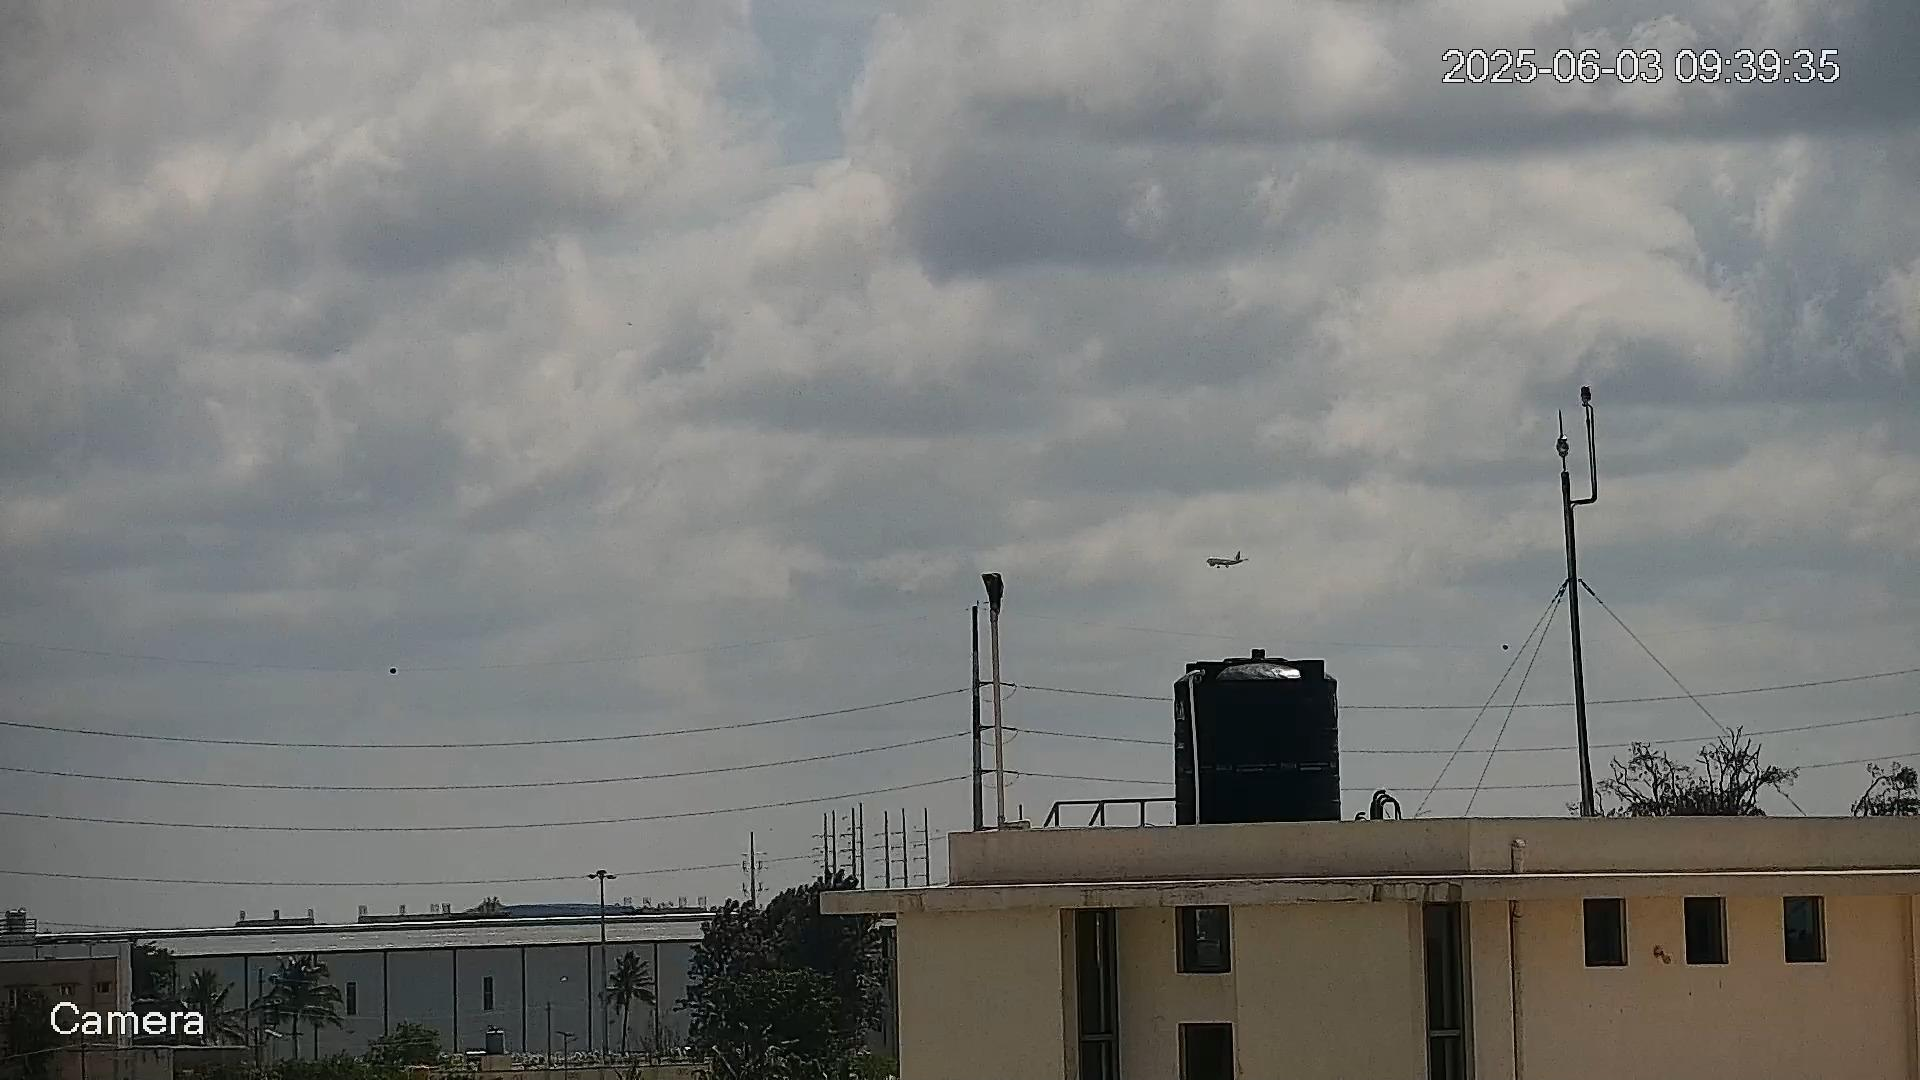Aircraft: (1205, 550, 1249, 570)
